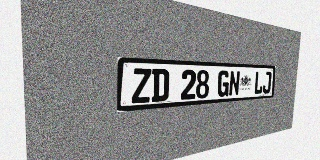2: (181, 69, 196, 100)
8: (195, 70, 210, 99)
D: (151, 69, 169, 102)
G: (217, 70, 230, 97)
J: (262, 72, 272, 94)
L: (254, 71, 264, 94)
N: (228, 71, 240, 96)
Z: (132, 68, 151, 104)
